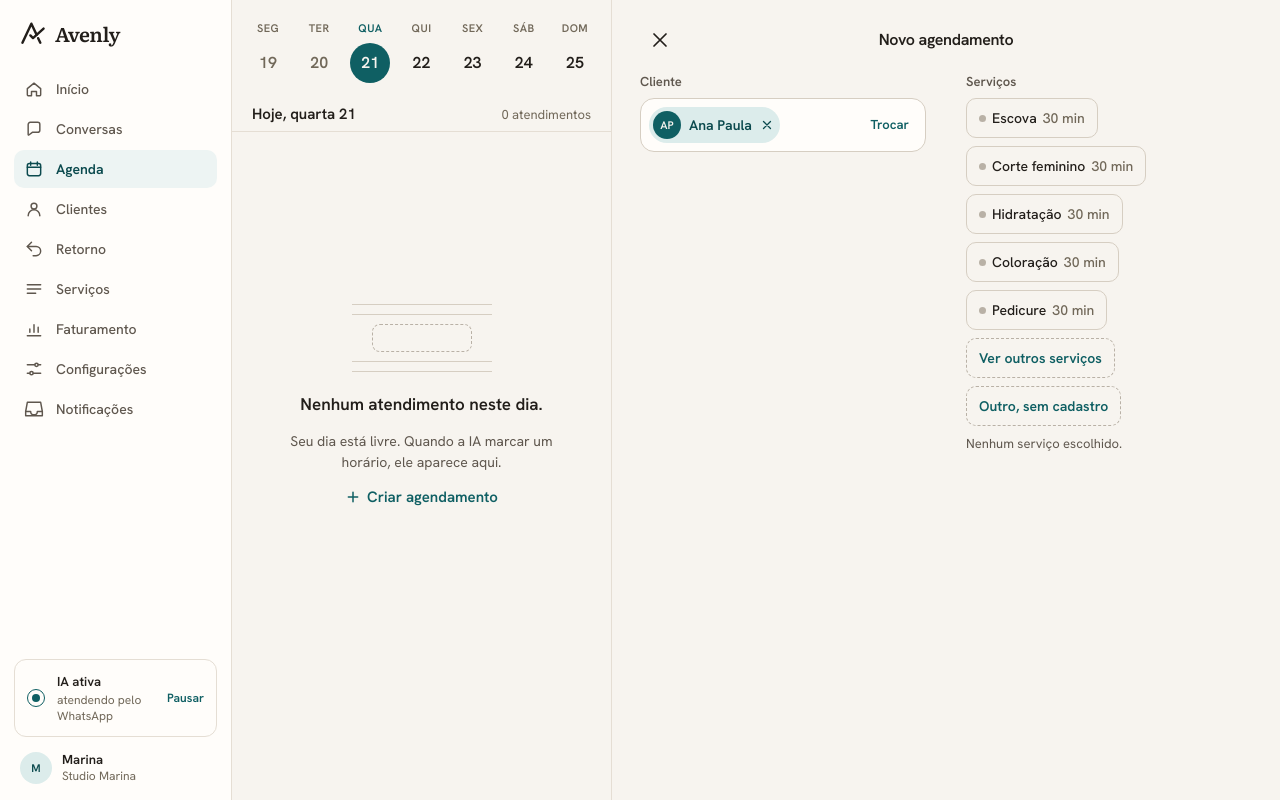
3. Ver outros serviços › Esc fecha o diálogo sem escolher nada
Expected: the form named "Novo agendamento" is shown, left=640, top=73, right=1146, bottom=452
Expected: the checkbox labelled "Escova 30 min" is shown, left=966, top=98, right=1098, bottom=138
Click the button "Ver outros serviços": (1040, 358) left=966, top=338, right=1115, bottom=378
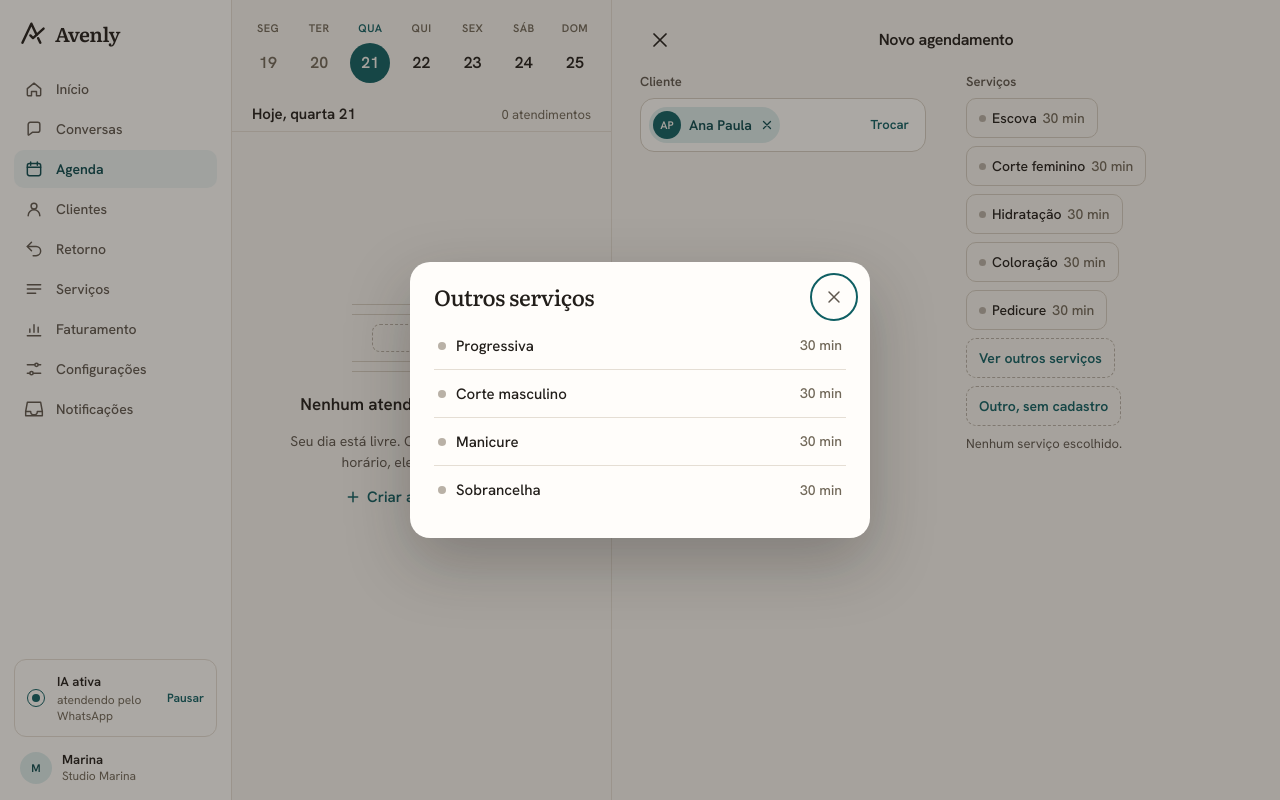
Now the dialog "Outros serviços" is shown, box left=410, top=262, right=870, bottom=538
Press Escape
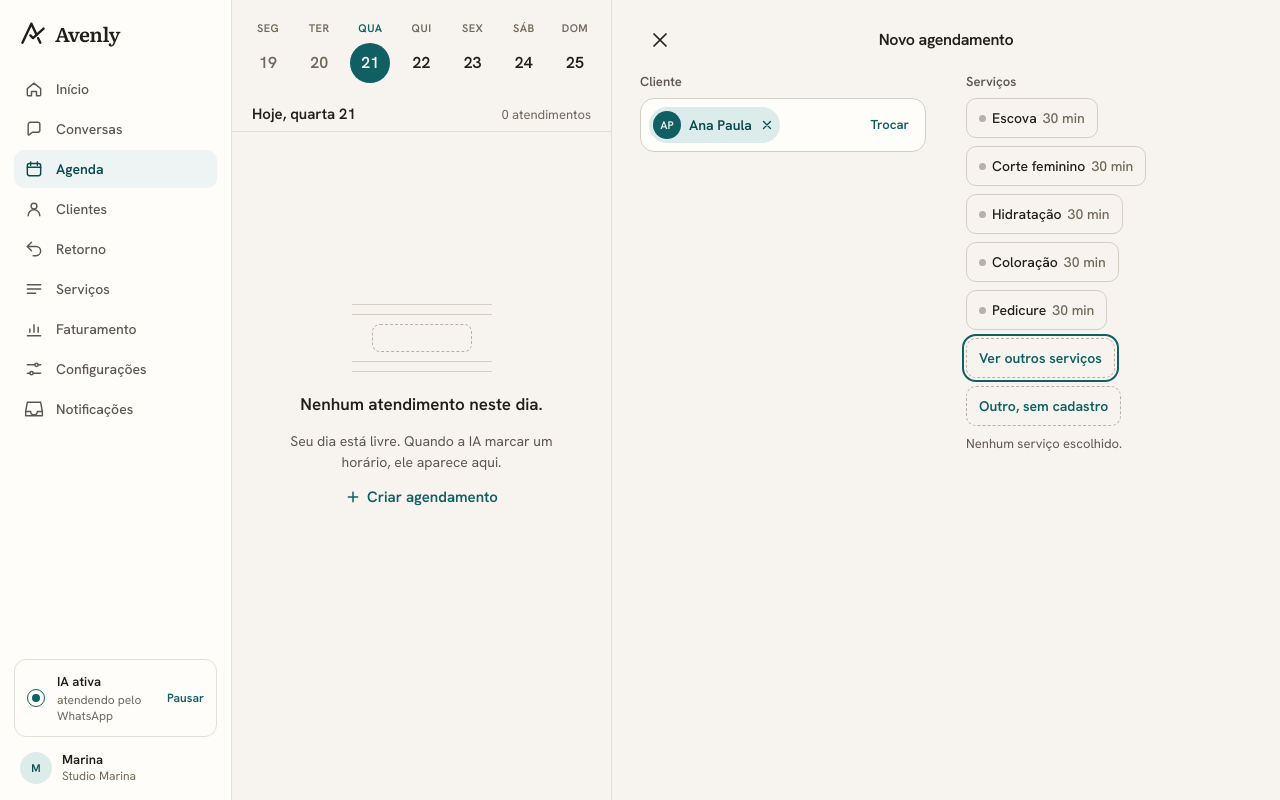
Now the dialog is gone
